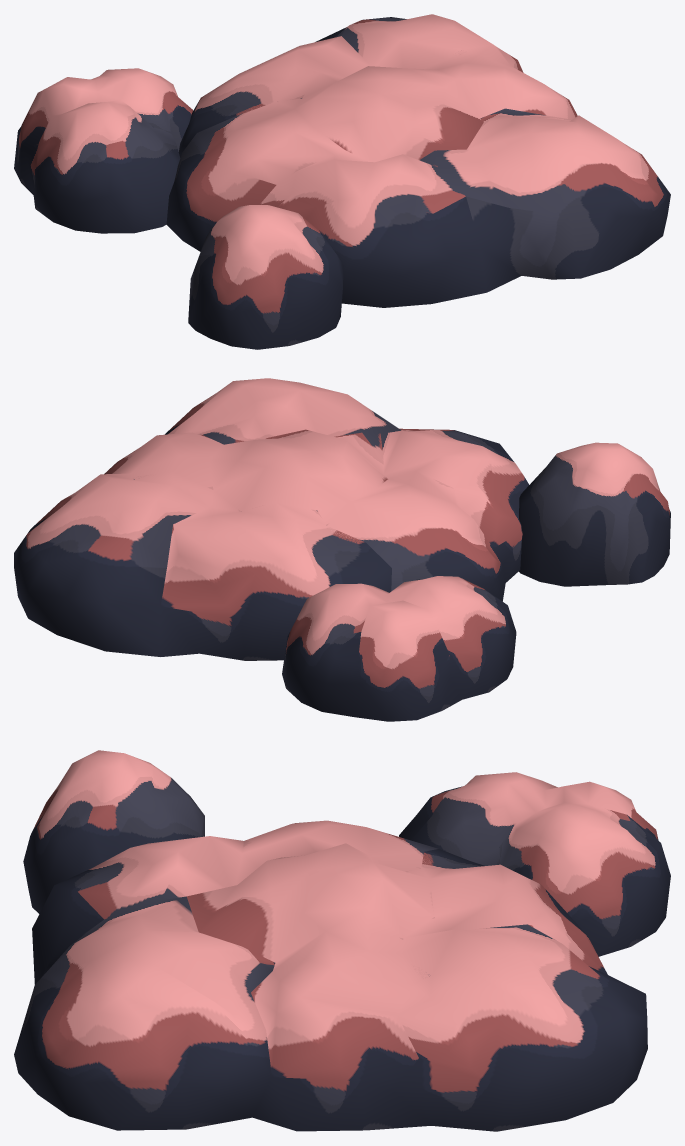
File: Bubblegum Coral 6_preview_3DS_simplified.glb
3 renders of one model, top to bottom at view 1: azimuth 30°, elevation 25°; view 2: azimuth 150°, elevation 25°; view 3: azimuth 270°, elevation 25°, orthographic. The views are drawn at different scales.
Parts seen in each view (by area): view 1: Marine Park Empire model; view 2: Marine Park Empire model; view 3: Marine Park Empire model.
Part boxes in pixels (box(x1,y1,x2,y2)): Marine Park Empire model: box(14, 14, 670, 349); Marine Park Empire model: box(14, 378, 670, 721); Marine Park Empire model: box(14, 750, 670, 1131).
Size of the model in its own units: 187 by 45.41 by 185.
Materials: 1 (1 with a texture image).
